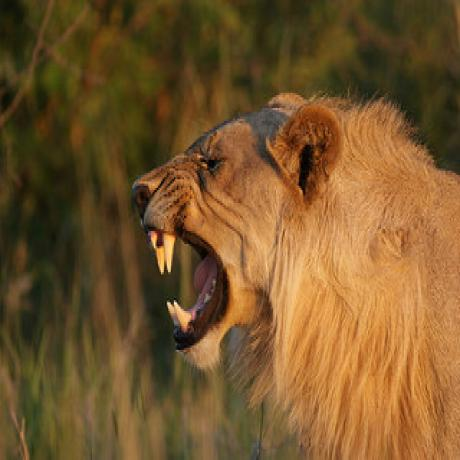Lion: (130, 87, 460, 460)
